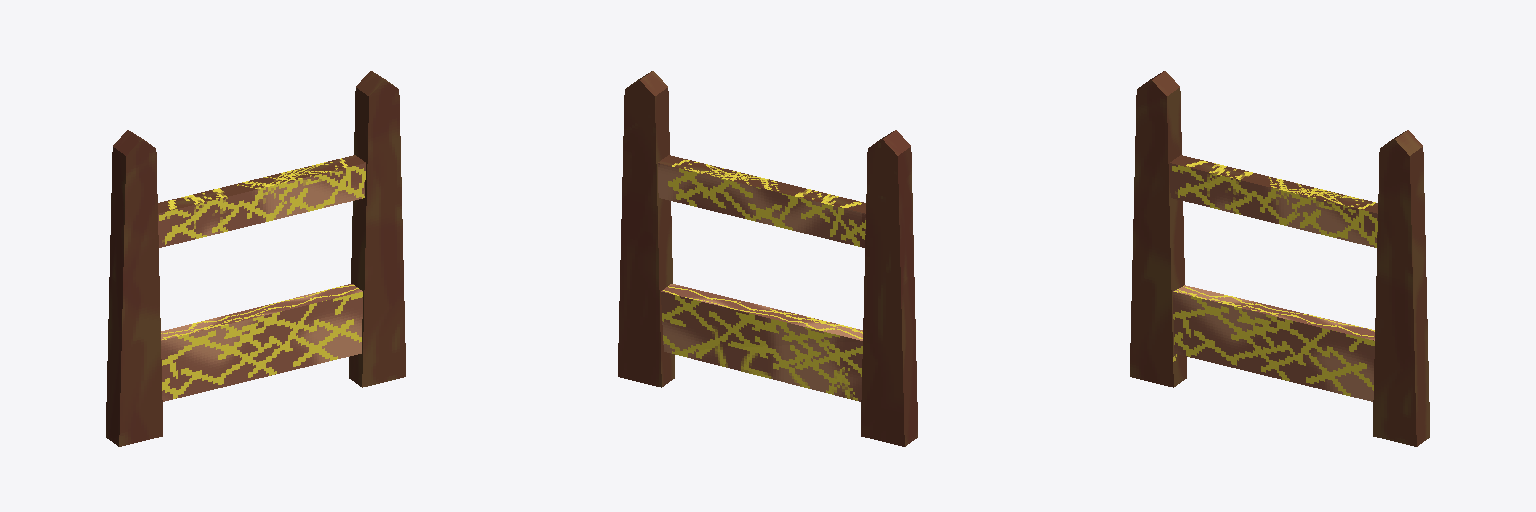
3 views of the same model, side by side, from view 1: azimuth 30°, elevation 25°; view 2: azimuth 150°, elevation 25°; view 3: azimuth 330°, elevation 25° (orthographic).
Visible parts, largest first — view 1: 立方体.002; view 2: 立方体.002; view 3: 立方体.002.
Part boxes in pixels (left/top/right/bottom): 立方体.002: left=106, top=71, right=405, bottom=446; 立方体.002: left=618, top=71, right=917, bottom=446; 立方体.002: left=1130, top=71, right=1429, bottom=446.
Size of the model in its own units: 1.99 by 2 by 0.1623.
Materials: 1 (1 with a texture image).